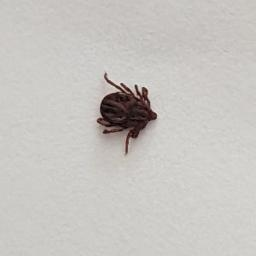Rhipicephalus sanguineus: (95, 72, 158, 154)
